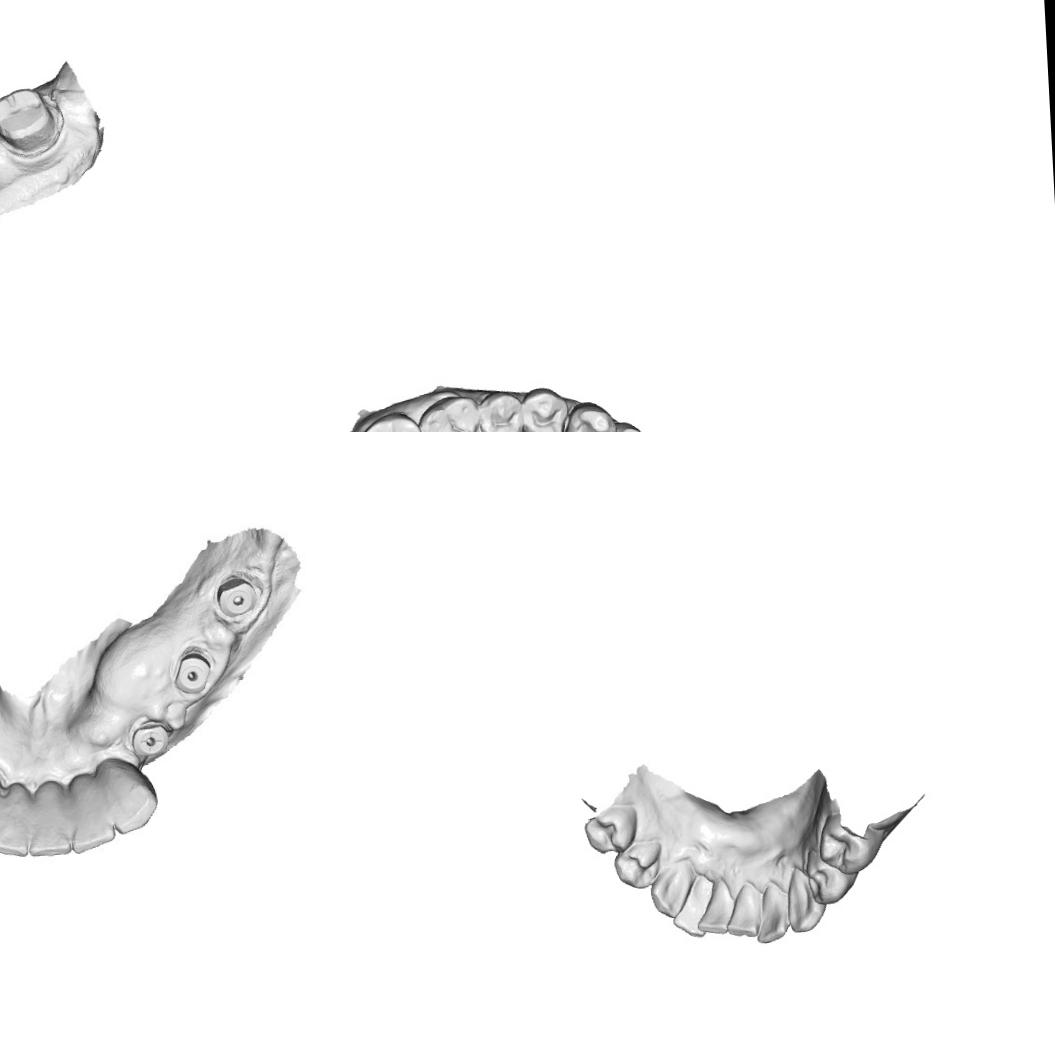canine: (95, 754, 158, 836), (645, 854, 702, 920), (783, 864, 828, 932), (559, 398, 619, 432)
crown: (0, 83, 63, 161)
implant: (168, 644, 216, 700), (214, 569, 258, 624)
implant_plus: (123, 710, 174, 766)
incisor: (24, 779, 75, 850), (71, 775, 118, 848), (668, 872, 717, 940), (750, 880, 792, 945), (693, 878, 737, 936), (723, 879, 761, 939), (0, 779, 28, 854), (605, 418, 647, 432)
molar: (413, 392, 484, 432), (350, 407, 423, 432)
premolar: (816, 808, 884, 876), (802, 843, 860, 905), (580, 802, 642, 856), (609, 837, 666, 891), (517, 384, 571, 432), (478, 388, 524, 432)
